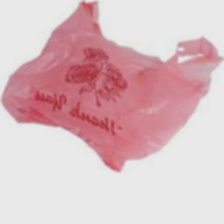plastic_bag: (0, 0, 223, 175)
